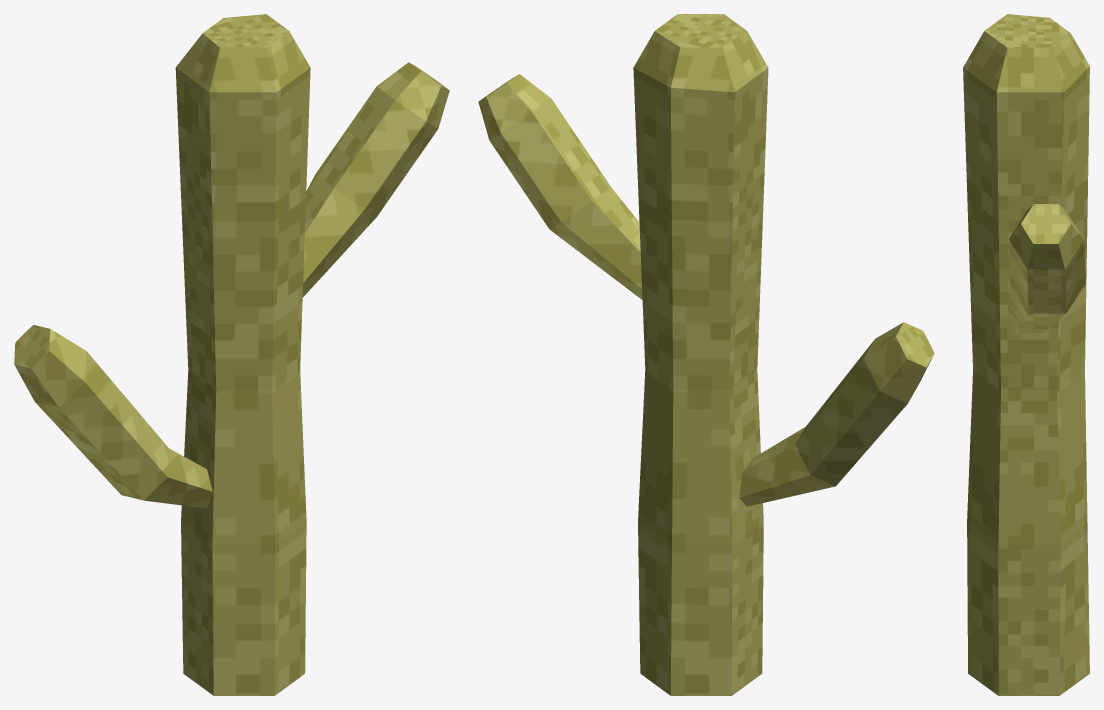
File: CaptusEgiptoModeloA.fbx
The picture shows the model from 3 angles, left to right: view 1: azimuth 30°, elevation 25°; view 2: azimuth 150°, elevation 25°; view 3: azimuth 270°, elevation 25°; orthographic projection.
Parts seen in each view (by area): view 1: Circle; view 2: Circle; view 3: Circle.
Part boxes in pixels (<box>): Circle: <box>14,14,449,695</box>; Circle: <box>478,14,934,695</box>; Circle: <box>963,14,1089,695</box>.
Bounding box in the file's own units: 8.25 × 11.64 × 2.08.
